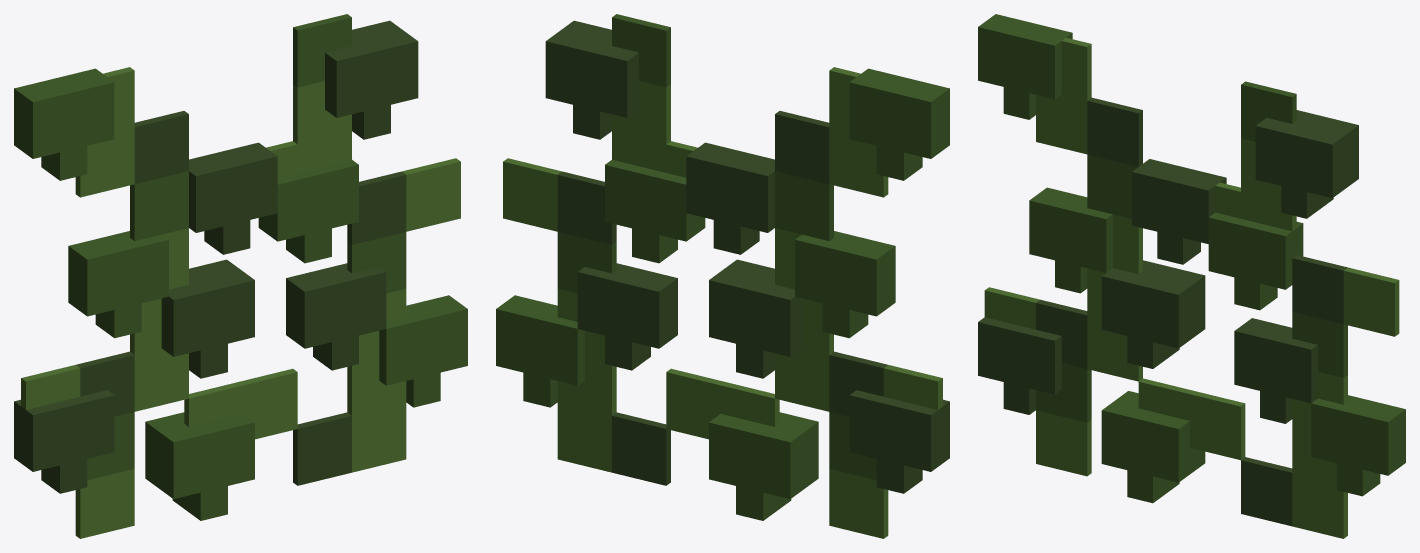
File: Vines.glb
3 views of the same model, side by side, from view 1: azimuth 30°, elevation 25°; view 2: azimuth 150°, elevation 25°; view 3: azimuth 330°, elevation 25° (orthographic). The views are drawn at different scales.
Parts seen in each view (by area): view 1: generated(Clone); view 2: generated(Clone); view 3: generated(Clone).
Part boxes in pixels (box(x1,y1,x2,y2)): generated(Clone): box(14, 14, 467, 538); generated(Clone): box(496, 14, 949, 538); generated(Clone): box(978, 14, 1405, 538).
Size of the model in its own units: 0.8 by 0.8 by 0.09.
Materials: 1 (1 with a texture image).
